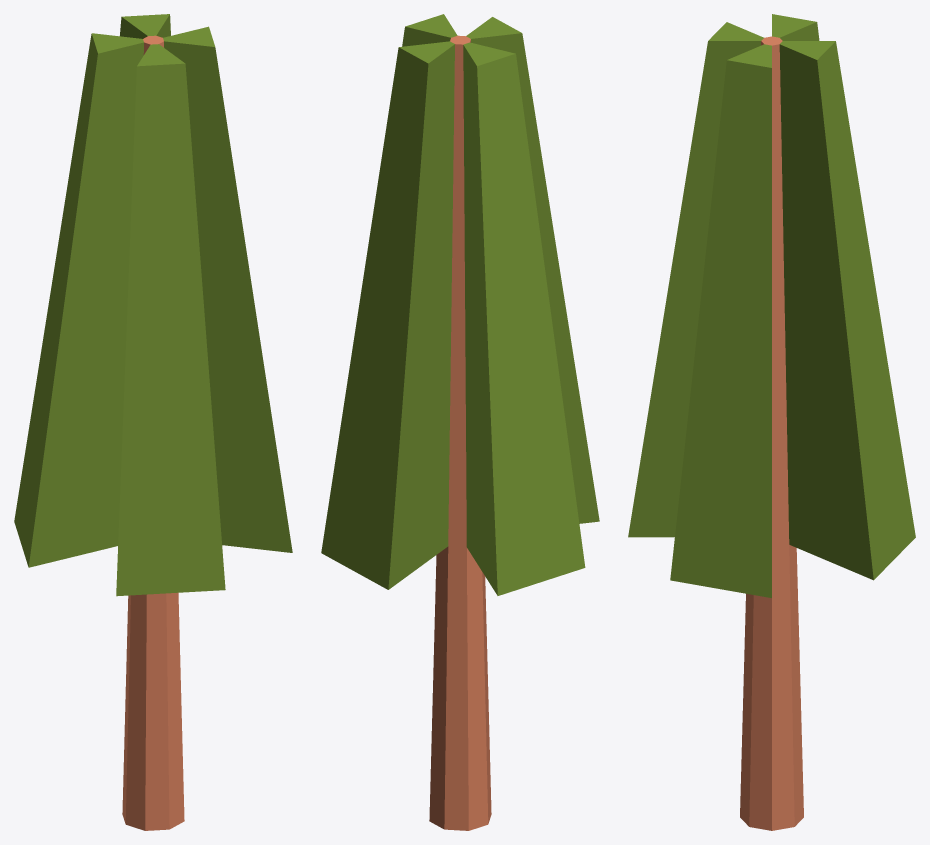
The model's file is tree1.glb.
The picture shows the model from 3 angles, left to right: view 1: azimuth 30°, elevation 25°; view 2: azimuth 150°, elevation 25°; view 3: azimuth 270°, elevation 25°; orthographic projection.
Parts seen in each view (by area): view 1: Tree_28_autumn; view 2: Tree_28_autumn; view 3: Tree_28_autumn.
Boxes of the visible parts, x1,y1,x2,y2 form: Tree_28_autumn: [14, 14, 292, 830]; Tree_28_autumn: [321, 14, 599, 830]; Tree_28_autumn: [628, 14, 915, 830].
Size of the model in its own units: 0.9897 by 2.94 by 0.9897.
Materials: 1 (1 with a texture image).
